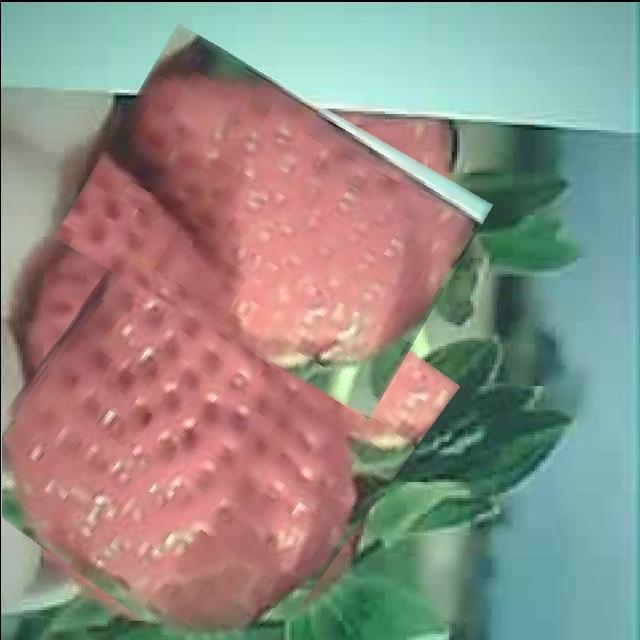strawberry: (0, 211, 421, 640), (71, 59, 474, 381)
